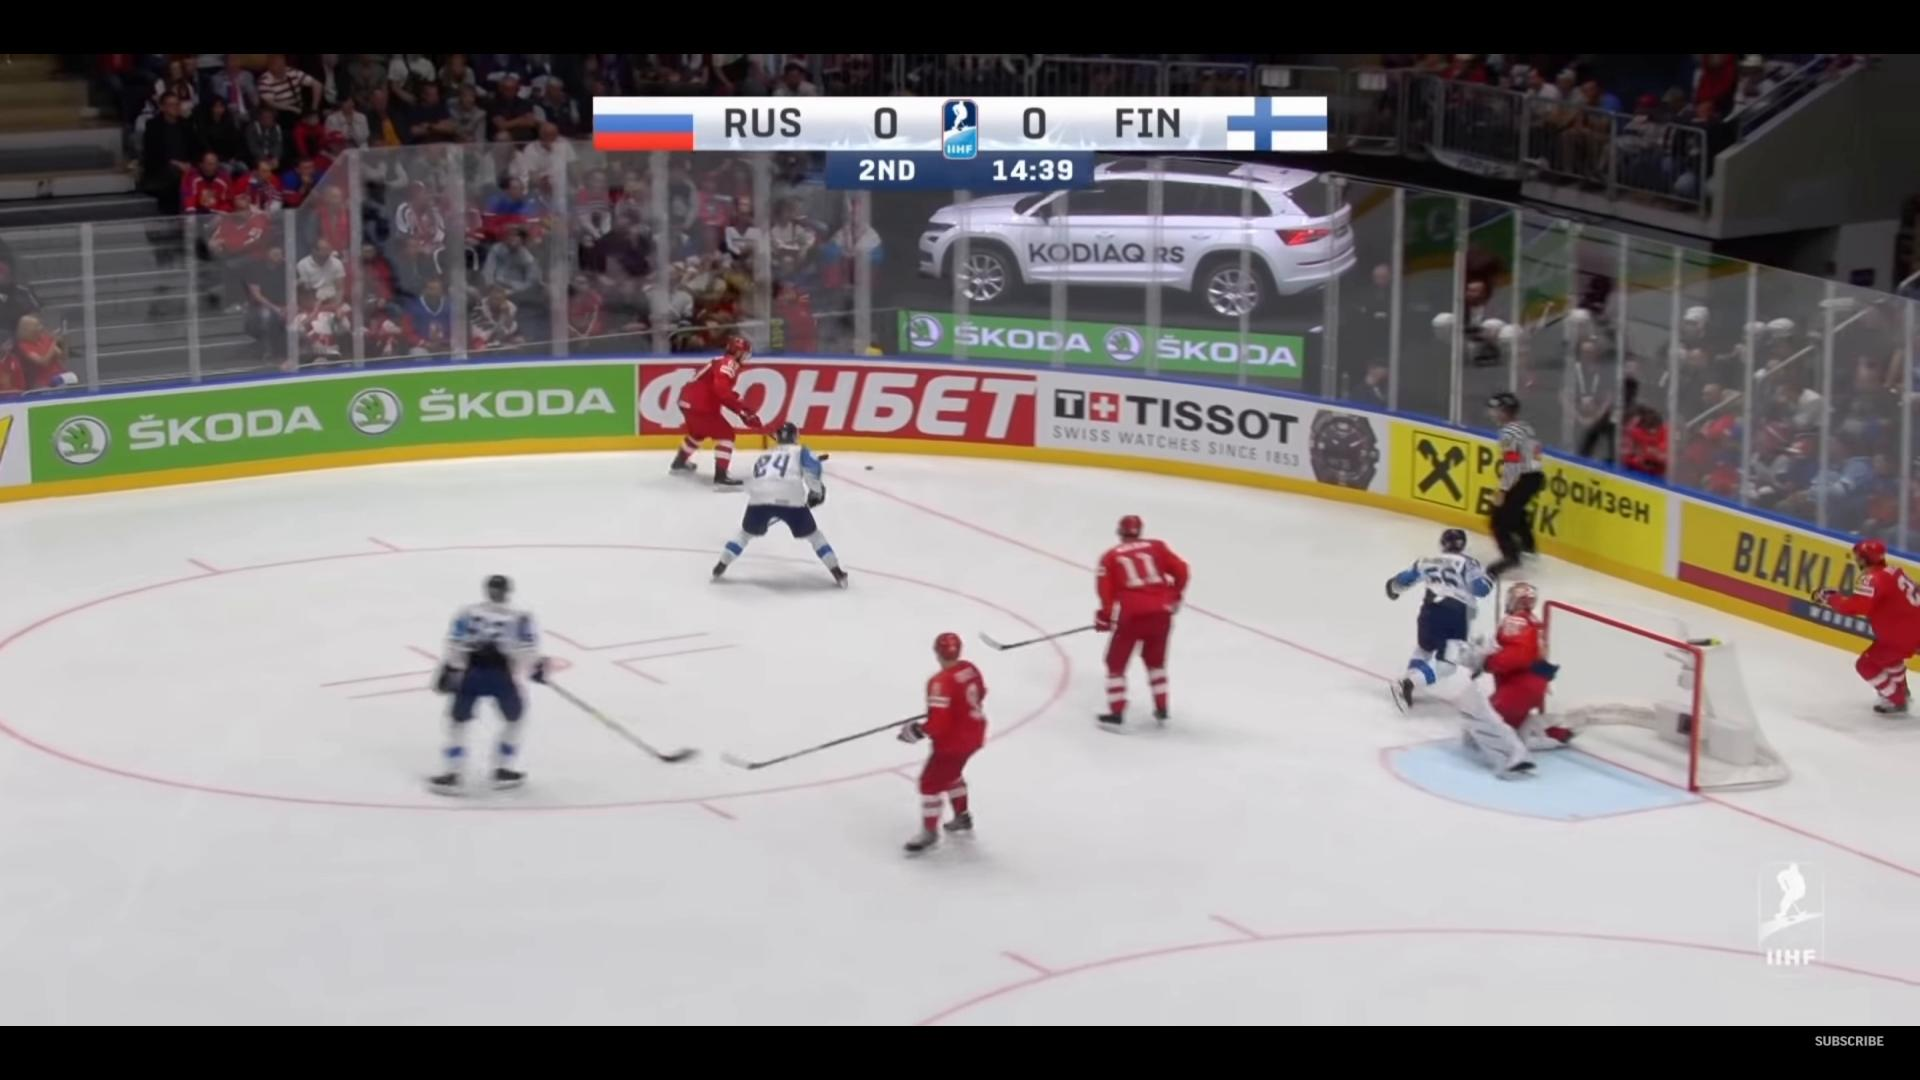puck: (863, 464, 873, 470)
